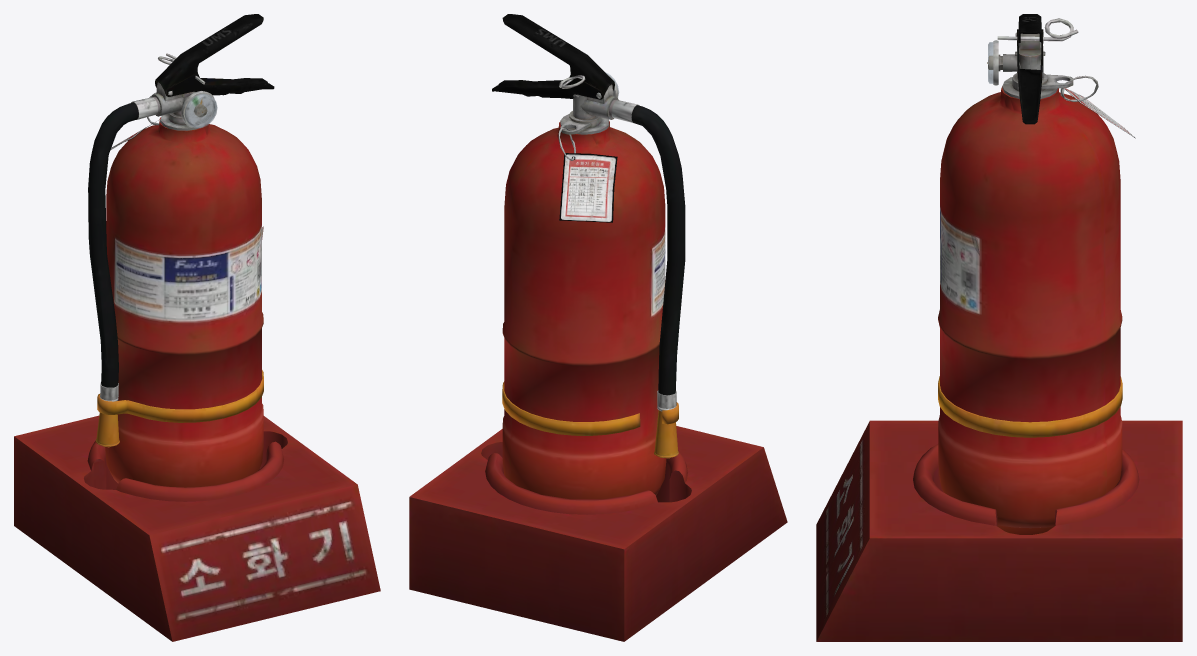
The model's file is korean_fire_extinguisher_01_512.glb.
3 renders of one model, left to right at view 1: azimuth 30°, elevation 25°; view 2: azimuth 150°, elevation 25°; view 3: azimuth 270°, elevation 25°, orthographic. The views are drawn at different scales.
Visible parts, largest first — view 1: korean_fire_extinguisher_01; view 2: korean_fire_extinguisher_01; view 3: korean_fire_extinguisher_01.
Part boxes in pixels (x1,y1,x2,y2): korean_fire_extinguisher_01: [14, 14, 380, 641]; korean_fire_extinguisher_01: [409, 14, 787, 641]; korean_fire_extinguisher_01: [816, 14, 1182, 641].
Size of the model in its own units: 0.279 by 0.6591 by 0.3674.
3 materials, 3 textured.
